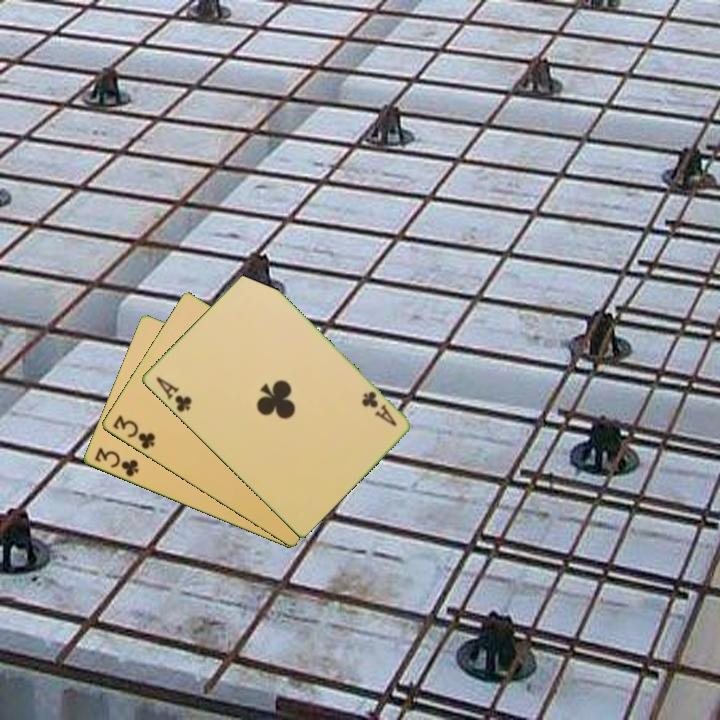3c: (109, 411, 158, 452), (90, 444, 141, 480)
Ac: (152, 373, 194, 415), (357, 388, 399, 429)
